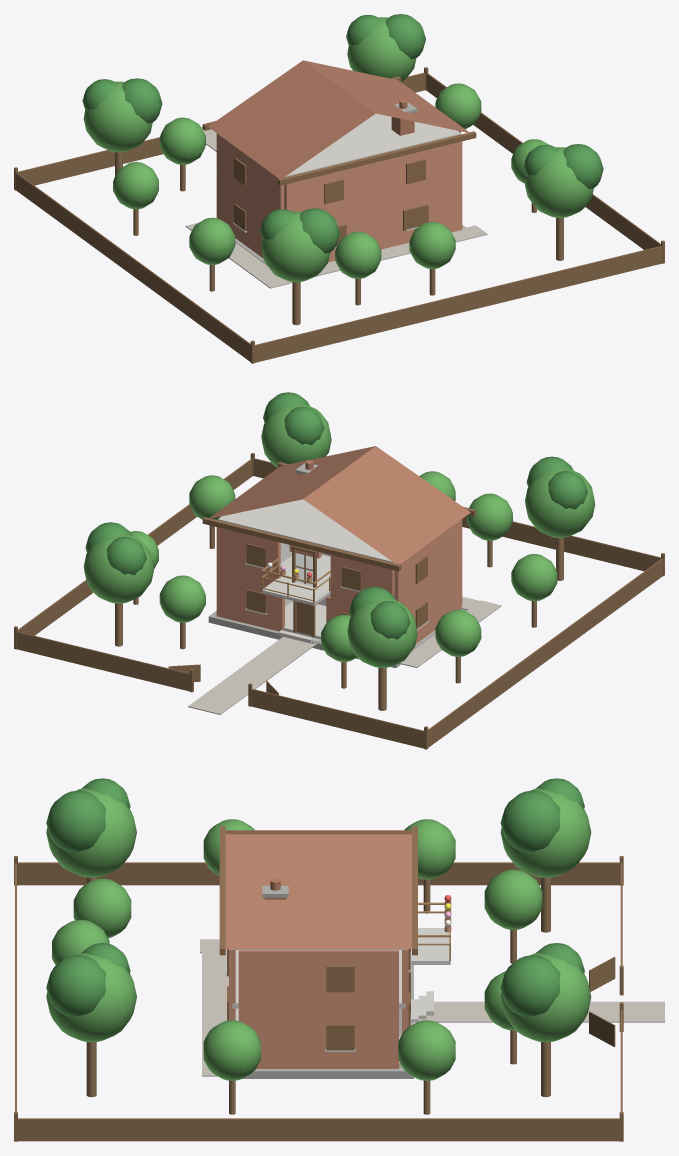
File: garden_house.glb
3 renders of one model, top to bottom at view 1: azimuth 30°, elevation 25°; view 2: azimuth 150°, elevation 25°; view 3: azimuth 270°, elevation 25°, orthographic. The views are drawn at different scales.
Visible parts, largest first — view 1: Roof, Canopy1 (×4), Canopy (×7), Fence_Back, FF_Back, Canopy2 (×4), Fence_Left, GF_Back, CeilingSlab, Canopy3 (×4), FF_Left, Fence_Front_L (+7 smaller); view 2: Roof, Canopy1 (×4), Canopy (×7), Canopy3 (×4), Fence_Left, CeilingSlab, WalkwayMain, Fence_Front_L, Fence_Front_R, Fence_Back, FF_Left, GF_Front_R (+11 smaller); view 3: Roof, Canopy (×8), Canopy1 (×4), Fence_Right, Canopy2 (×4), FF_Right, GF_Right, Fence_Left, WalkwayMain, Canopy3 (×4), WalkwayBack, Foundation (+8 smaller).
Part boxes in pixels (x1=…): Roof: x1=208, y1=60, x2=468, y2=178; Canopy1 (×4): x1=83, y1=17, x2=593, y2=282; Canopy (×7): x1=113, y1=83, x2=549, y2=278; Fence_Back: x1=255, y1=246, x2=661, y2=362; FF_Back: x1=284, y1=141, x2=462, y2=216; Canopy2 (×4): x1=122, y1=14, x2=603, y2=253; Fence_Left: x1=16, y1=173, x2=250, y2=361; GF_Back: x1=328, y1=185, x2=462, y2=262; CeilingSlab: x1=284, y1=113, x2=461, y2=177; Canopy3 (×4): x1=82, y1=15, x2=557, y2=241; FF_Left: x1=218, y1=134, x2=284, y2=215; Fence_Front_L: x1=18, y1=138, x2=163, y2=185; Roof: x1=210, y1=446, x2=470, y2=564; Canopy1 (×4): x1=83, y1=404, x2=595, y2=667; Canopy (×7): x1=159, y1=471, x2=557, y2=661; Canopy3 (×4): x1=107, y1=406, x2=587, y2=639; Fence_Left: x1=428, y1=559, x2=662, y2=747; CeilingSlab: x1=217, y1=499, x2=393, y2=562; WalkwayMain: x1=188, y1=637, x2=320, y2=714; Fence_Front_L: x1=251, y1=689, x2=423, y2=748; Fence_Front_R: x1=17, y1=632, x2=189, y2=691; Fence_Back: x1=253, y1=459, x2=660, y2=571; FF_Left: x1=394, y1=520, x2=460, y2=605; GF_Front_R: x1=216, y1=570, x2=284, y2=631; Roof: x1=225, y1=830, x2=411, y2=948; Canopy (×8): x1=52, y1=819, x2=542, y2=1080; Canopy1 (×4): x1=46, y1=788, x2=591, y2=1042; Fence_Right: x1=18, y1=1119, x2=619, y2=1141; Canopy2 (×4): x1=46, y1=790, x2=560, y2=1016; FF_Right: x1=238, y1=950, x2=398, y2=1010; GF_Right: x1=238, y1=1010, x2=398, y2=1068; Fence_Left: x1=18, y1=863, x2=619, y2=885; WalkwayMain: x1=411, y1=1001, x2=664, y2=1022; Canopy3 (×4): x1=81, y1=778, x2=584, y2=973; WalkwayBack: x1=202, y1=947, x2=228, y2=1076; Foundation: x1=242, y1=965, x2=413, y2=1078.
Size of what is drawn, in the model's own units: 28.18 by 9.5 by 30.09.
